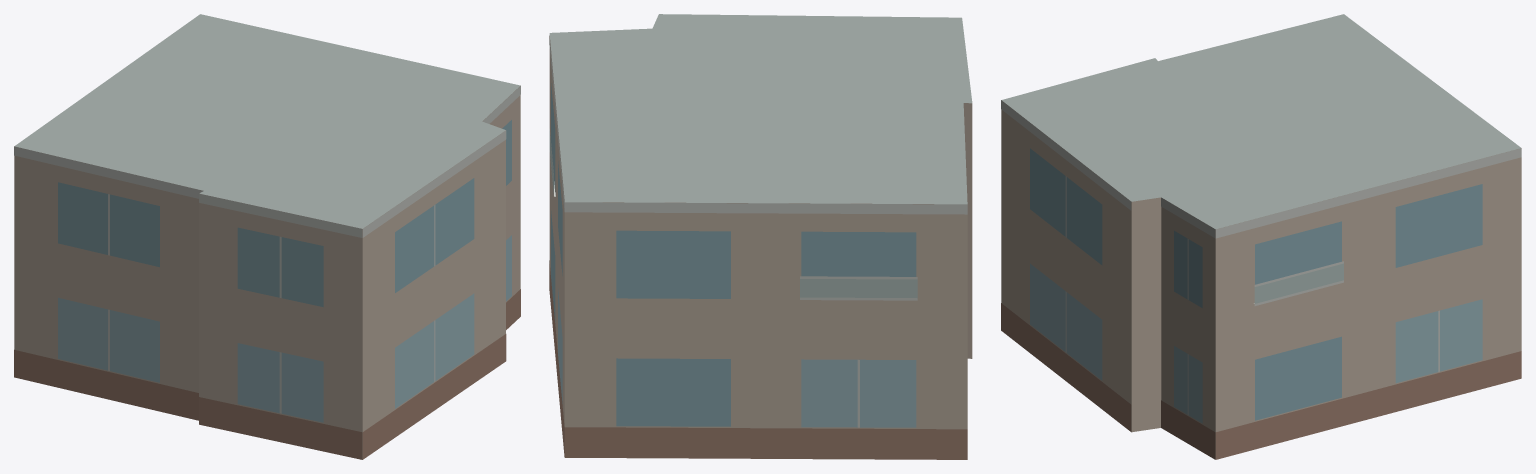
The model's file is survey-upis-32816769.glb.
3 renders of one model, left to right at view 1: azimuth 30°, elevation 25°; view 2: azimuth 150°, elevation 25°; view 3: azimuth 270°, elevation 25°, orthographic. The views are drawn at different scales.
Parts seen in each view (by area): view 1: survey-upis-32816769.tmp; view 2: survey-upis-32816769.tmp; view 3: survey-upis-32816769.tmp.
Boxes of the visible parts, x1,y1,x2,y2 form: survey-upis-32816769.tmp: [14, 14, 520, 459]; survey-upis-32816769.tmp: [549, 14, 972, 459]; survey-upis-32816769.tmp: [1001, 14, 1521, 459].
Size of the model in its own units: 12.23 by 6.1 by 12.49.
